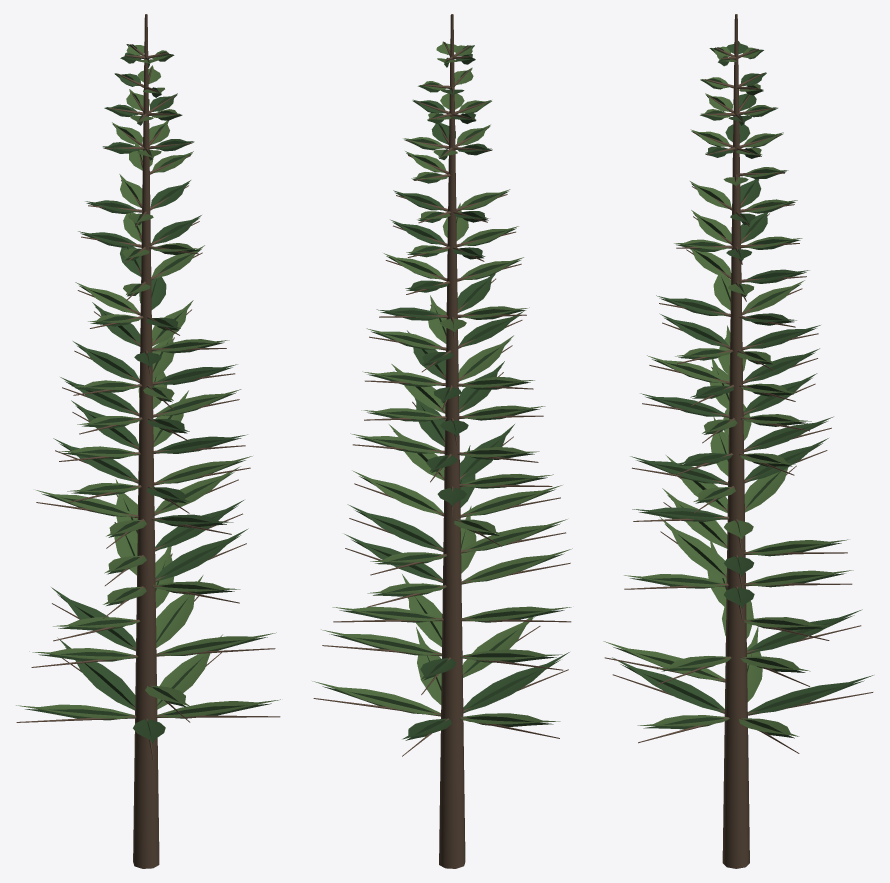
The model's file is norfolk-pine.glb.
The picture shows the model from 3 angles, left to right: view 1: azimuth 30°, elevation 25°; view 2: azimuth 150°, elevation 25°; view 3: azimuth 270°, elevation 25°; orthographic projection.
Visible parts, largest first — view 1: norfolk-pine-norfolk, norfolk-pine-norfolk-light, norfolk-pine-norfolk-bark; view 2: norfolk-pine-norfolk, norfolk-pine-norfolk-light, norfolk-pine-norfolk-bark; view 3: norfolk-pine-norfolk, norfolk-pine-norfolk-light, norfolk-pine-norfolk-bark.
Boxes of the visible parts, box(x1,y1,x2,y2) form: norfolk-pine-norfolk: box(25, 44, 271, 743); norfolk-pine-norfolk-light: box(16, 44, 280, 718); norfolk-pine-norfolk-bark: box(16, 14, 280, 868); norfolk-pine-norfolk: box(322, 42, 569, 740); norfolk-pine-norfolk-light: box(312, 41, 572, 724); norfolk-pine-norfolk-bark: box(313, 14, 571, 868); norfolk-pine-norfolk: box(612, 41, 873, 738); norfolk-pine-norfolk-light: box(603, 46, 853, 736); norfolk-pine-norfolk-bark: box(604, 14, 873, 868).
Size of the model in its own units: 7.38 by 26 by 7.61.
